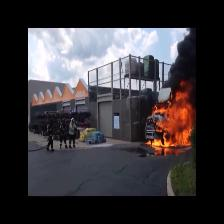fire: (155, 88, 191, 151)
smoke: (167, 37, 193, 85)
